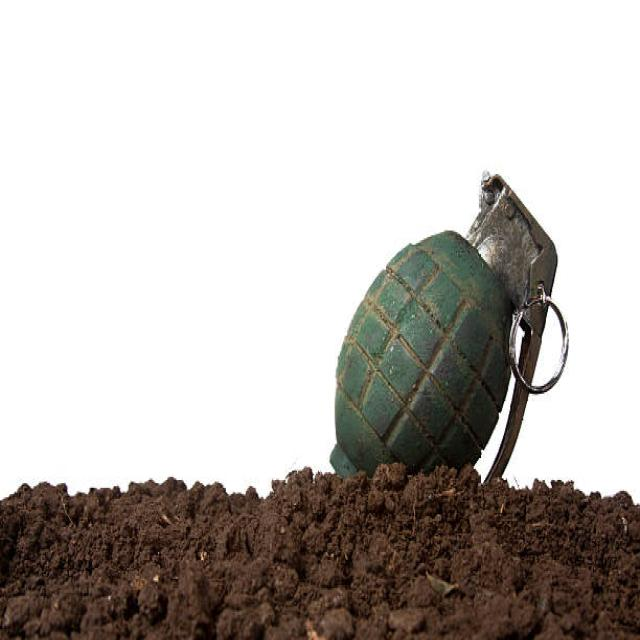grenade: (323, 167, 580, 498)
